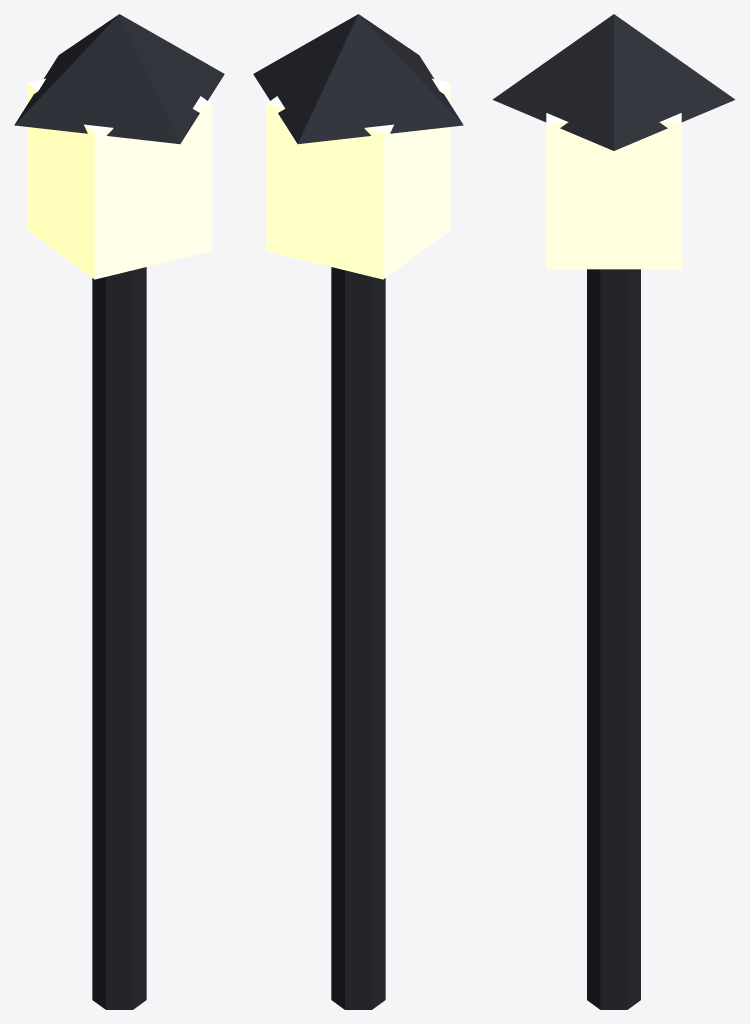
File: signal_lamp_post.glb
The picture shows the model from 3 angles, left to right: view 1: azimuth 30°, elevation 25°; view 2: azimuth 150°, elevation 25°; view 3: azimuth 270°, elevation 25°; orthographic projection.
Parts seen in each view (by area): view 1: signal_lamp_post; view 2: signal_lamp_post; view 3: signal_lamp_post.
Boxes of the visible parts, x1,y1,x2,y2 form: signal_lamp_post: [14, 14, 224, 1009]; signal_lamp_post: [253, 14, 463, 1009]; signal_lamp_post: [492, 14, 735, 1009].
Size of the model in its own units: 0.9 by 4.03 by 0.9.
